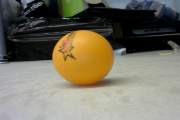PingPongBall: (53, 31, 114, 85)
